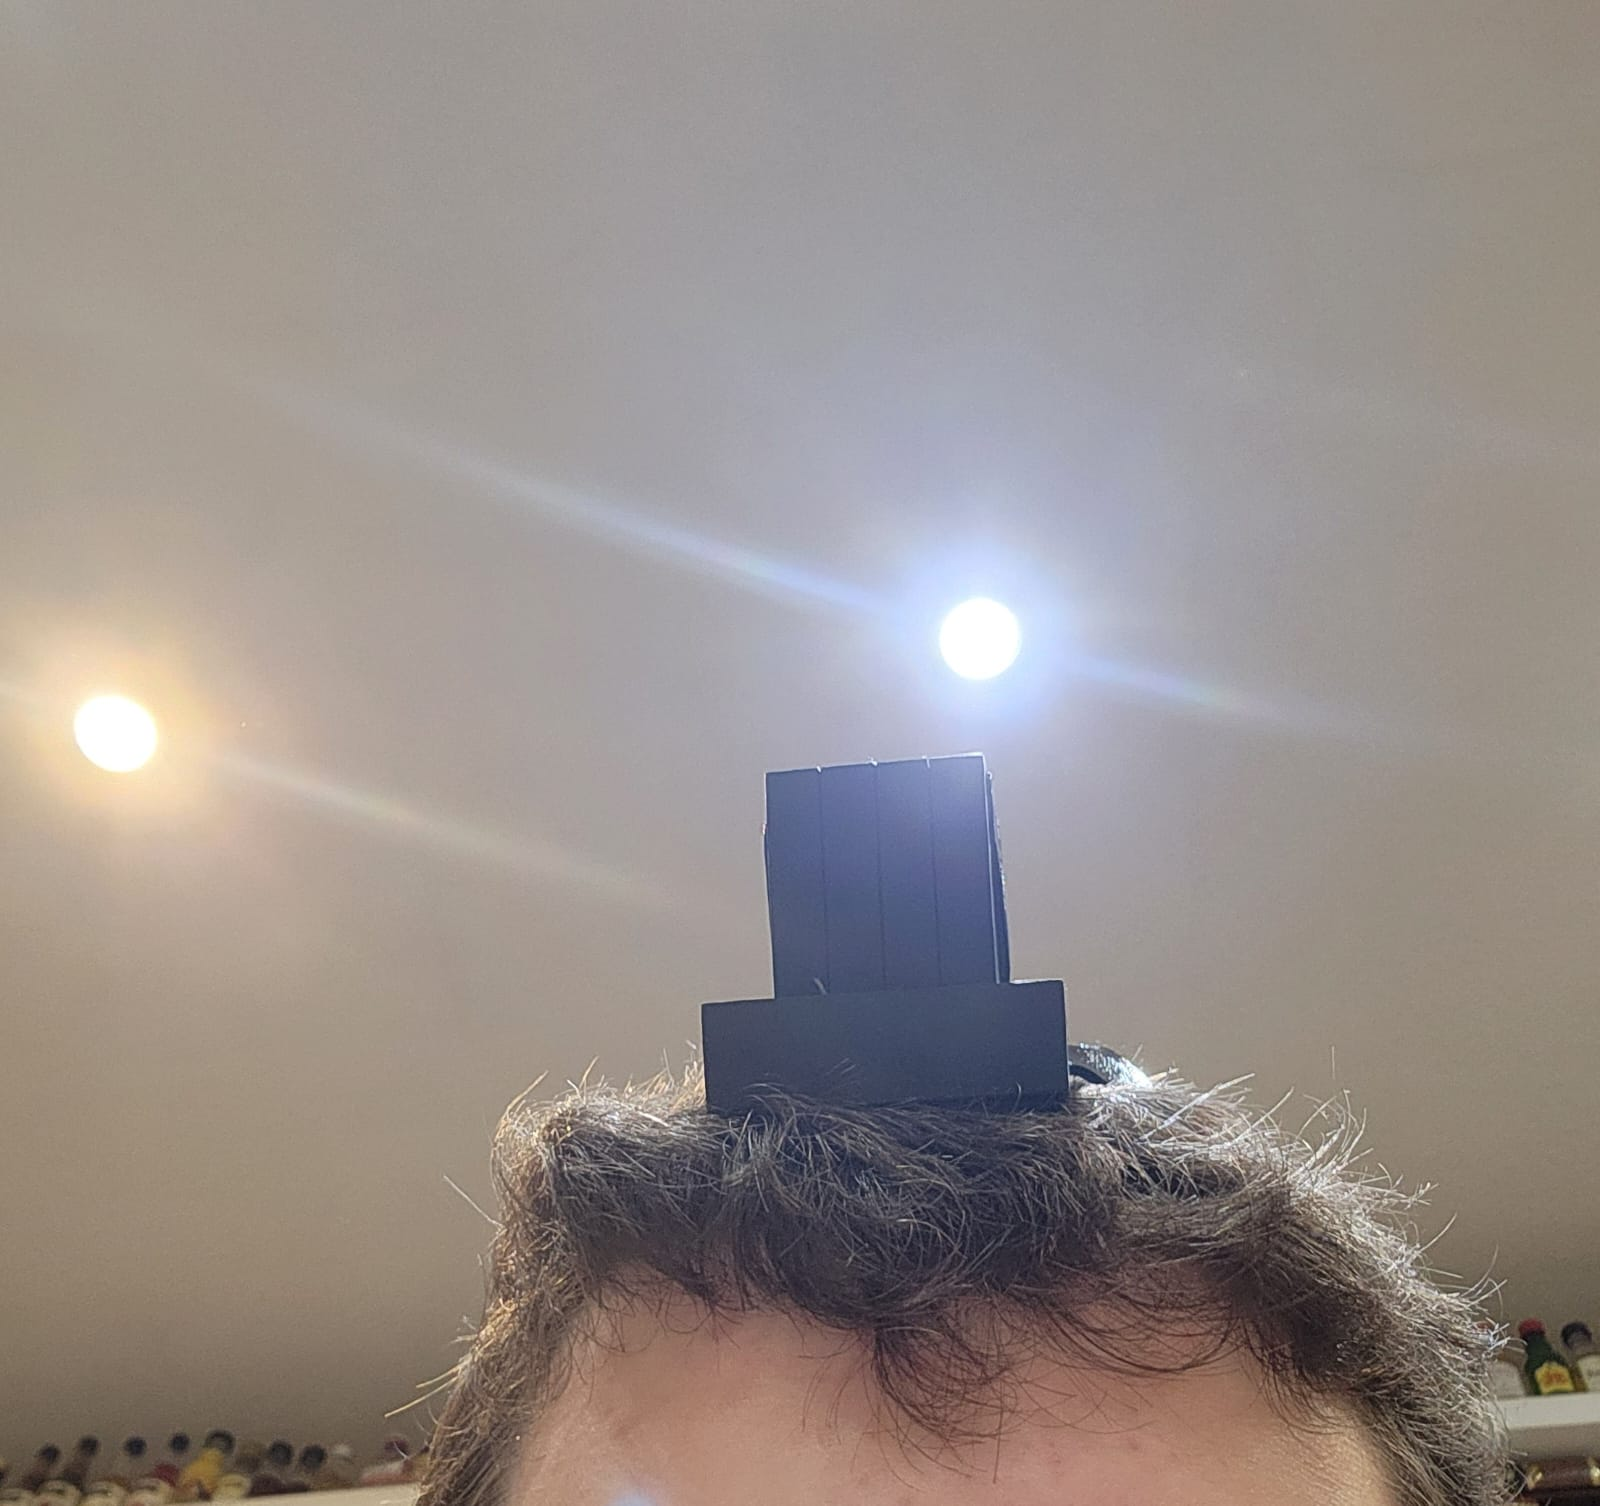tefillin: (704, 753, 1070, 1115)
